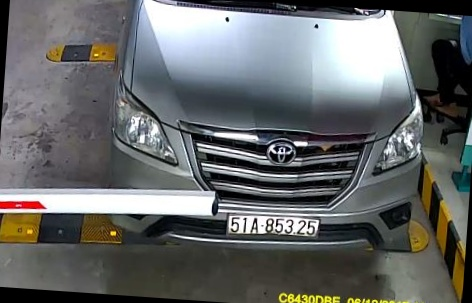plate: (226, 206, 322, 242)
